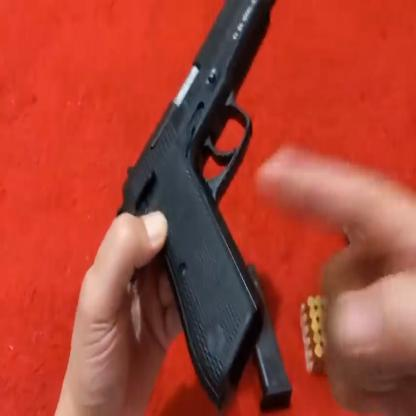handgun: (115, 5, 276, 416)
